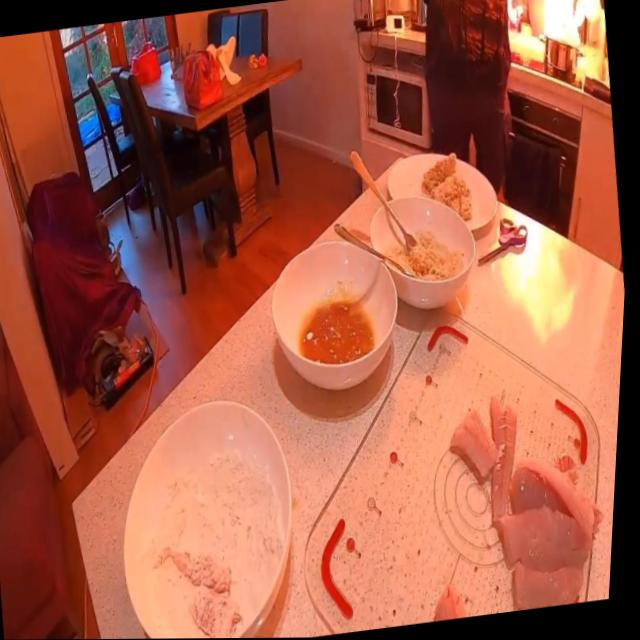fire: (529, 0, 608, 51), (500, 0, 529, 30)
